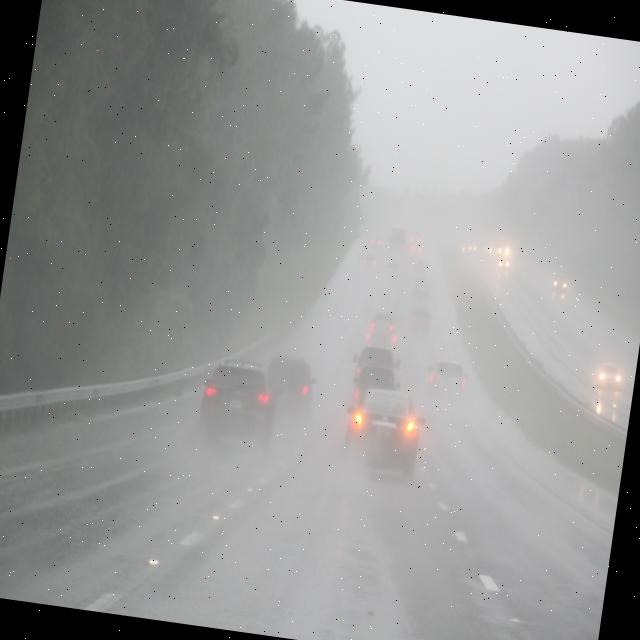car: (347, 383, 428, 481), (196, 356, 280, 450), (263, 353, 322, 422), (421, 361, 471, 402), (352, 342, 404, 377), (407, 304, 436, 332), (594, 362, 624, 389), (368, 311, 398, 337), (550, 272, 570, 294)
